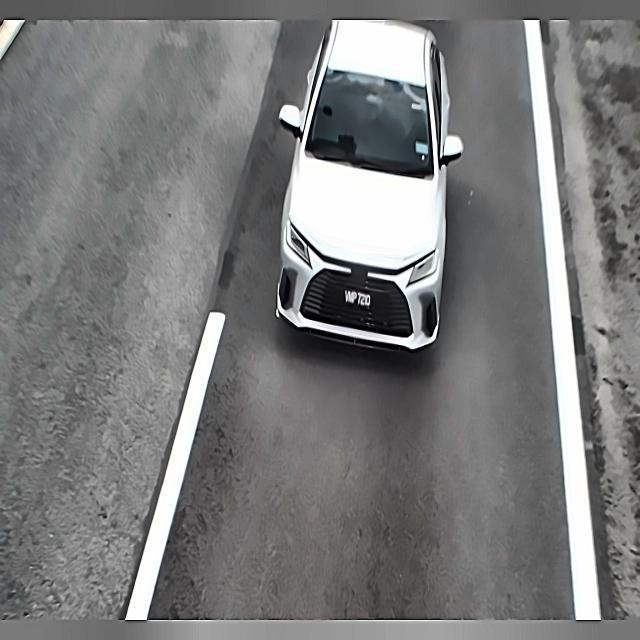car: (332, 278, 384, 317)
